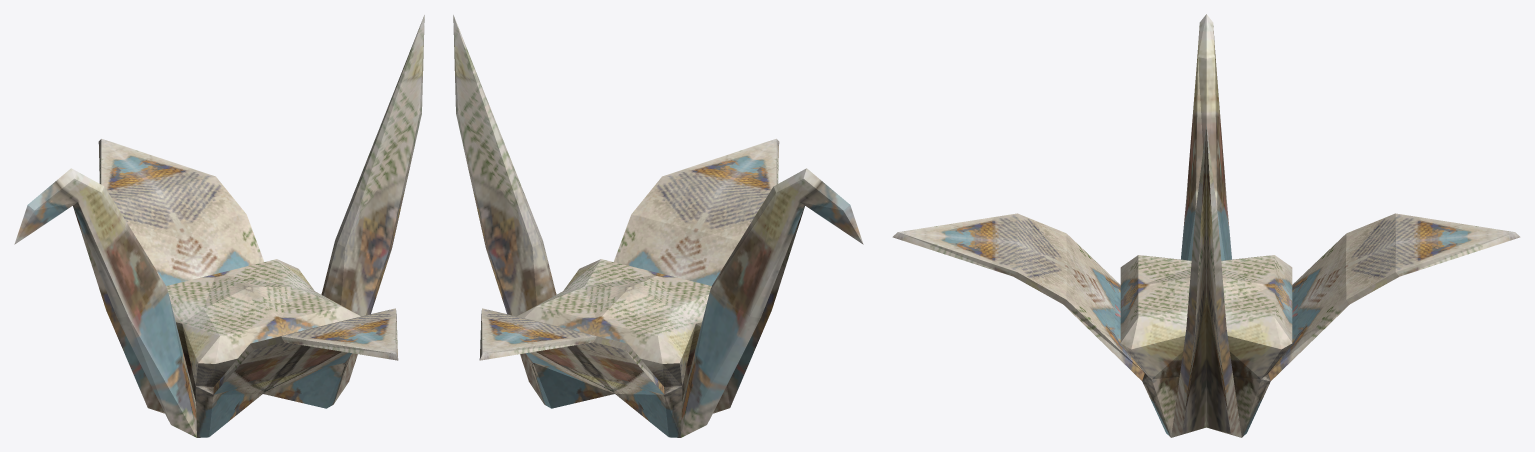
The model's file is Monkey_paperMike.obj.
3 renders of one model, left to right at view 1: azimuth 30°, elevation 25°; view 2: azimuth 150°, elevation 25°; view 3: azimuth 270°, elevation 25°, orthographic. The views are drawn at different scales.
Parts seen in each view (by area): view 1: Monkey_paperMike_tri; view 2: Monkey_paperMike_tri; view 3: Monkey_paperMike_tri.
Part boxes in pixels (x1,y1,x2,y2): Monkey_paperMike_tri: (14, 15, 424, 437); Monkey_paperMike_tri: (453, 15, 863, 437); Monkey_paperMike_tri: (892, 14, 1520, 437).
Bounding box in the file's own units: 0.3381 × 0.277 × 0.4273.
Materials: 1 (1 with a texture image).
